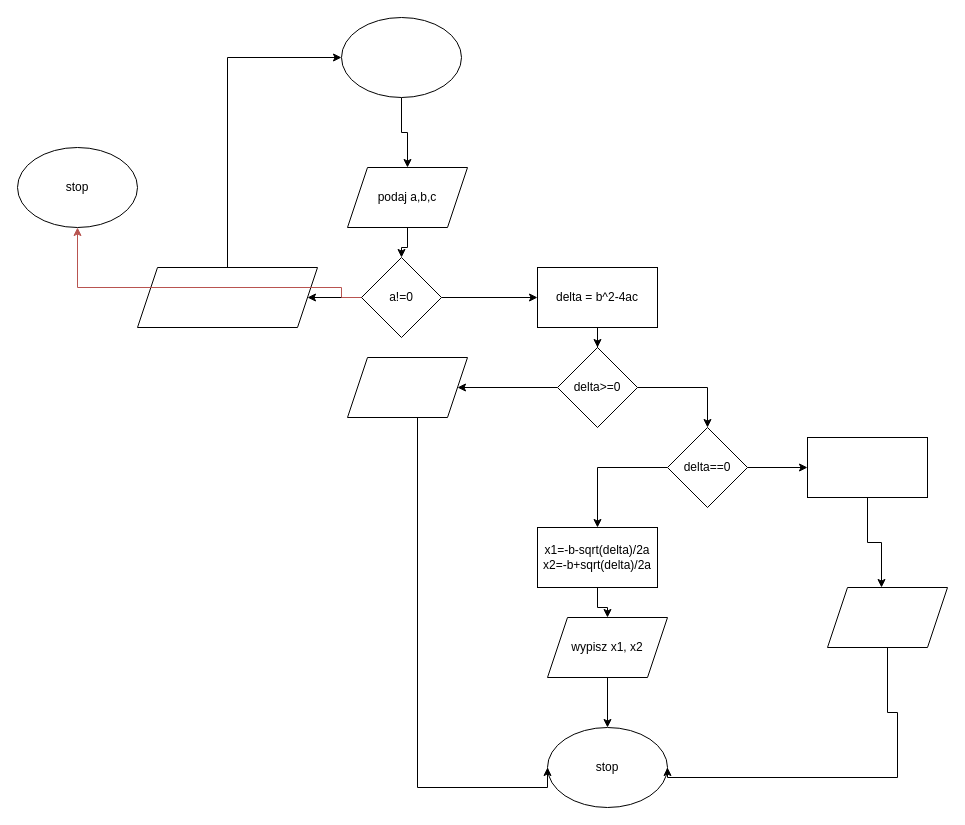
Image size: 965x825. Some labels were removed from this diagram. Each missing label, with the box of its shape:
start: (340, 16, 462, 98)
wypisz brak rozwiązania: (346, 356, 468, 418)
wypisz to nie jest równanie kwadratowe: (136, 266, 318, 328)
wypisz x: (826, 586, 948, 648)
x=-b/2a: (806, 436, 928, 498)
